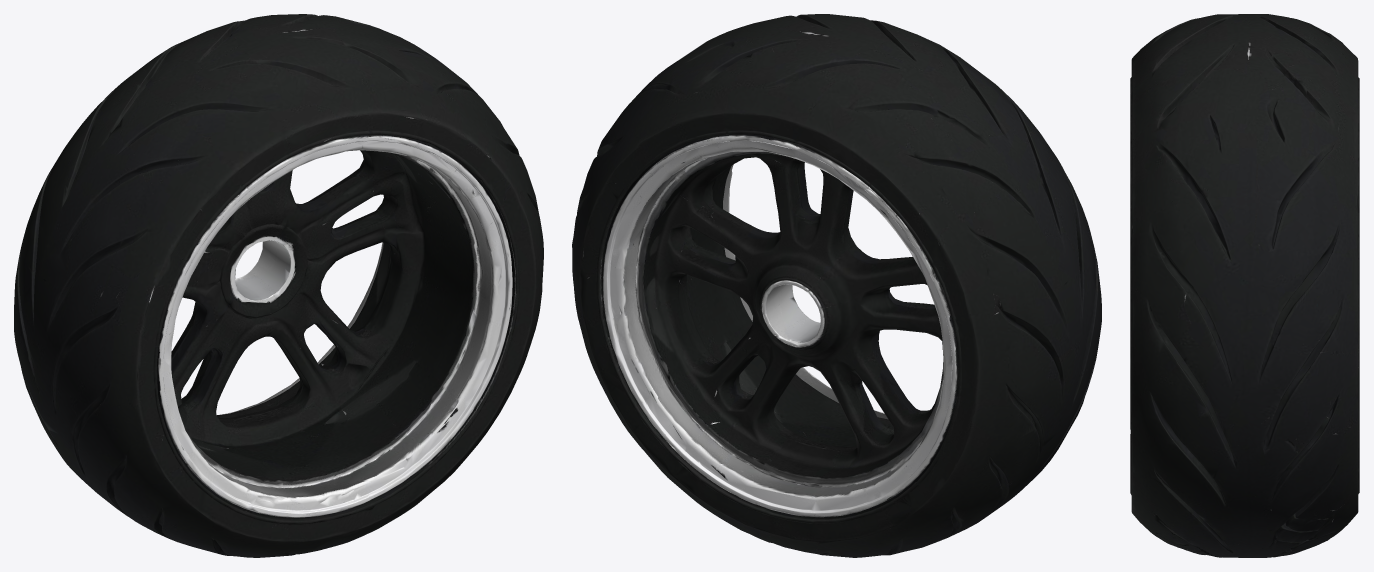
File: Meshy_AI_Racing_Tire_20261118_texture_41460tris.glb
The picture shows the model from 3 angles, left to right: view 1: azimuth 30°, elevation 25°; view 2: azimuth 150°, elevation 25°; view 3: azimuth 270°, elevation 25°; orthographic projection.
Visible parts, largest first — view 1: Mesh_0; view 2: Mesh_0; view 3: Mesh_0.
Part boxes in pixels (box(x1,y1,x2,y2)): Mesh_0: box(14, 14, 543, 557); Mesh_0: box(572, 14, 1101, 557); Mesh_0: box(1130, 14, 1359, 557).
Size of the model in its own units: 190 by 190 by 80.21.
Materials: 1 (1 with a texture image).
